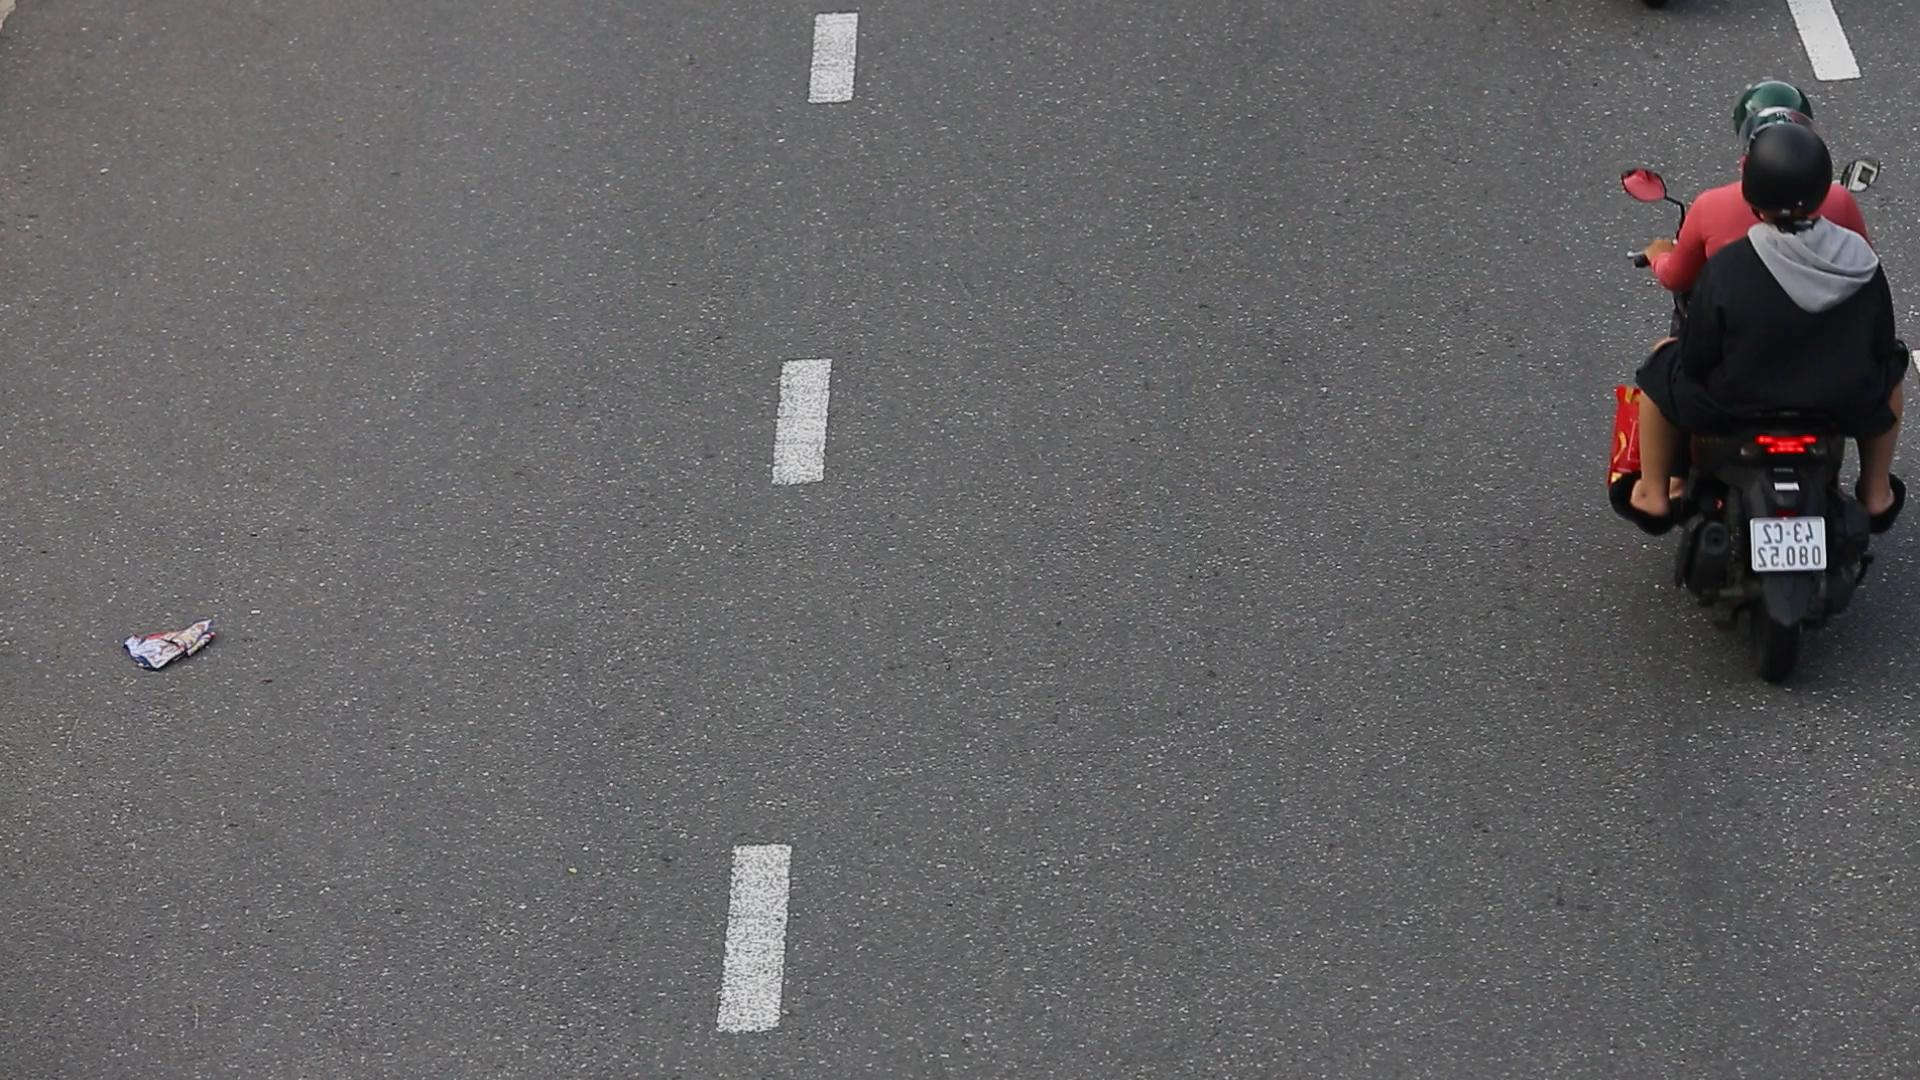motobike: (1586, 75, 1908, 687)
